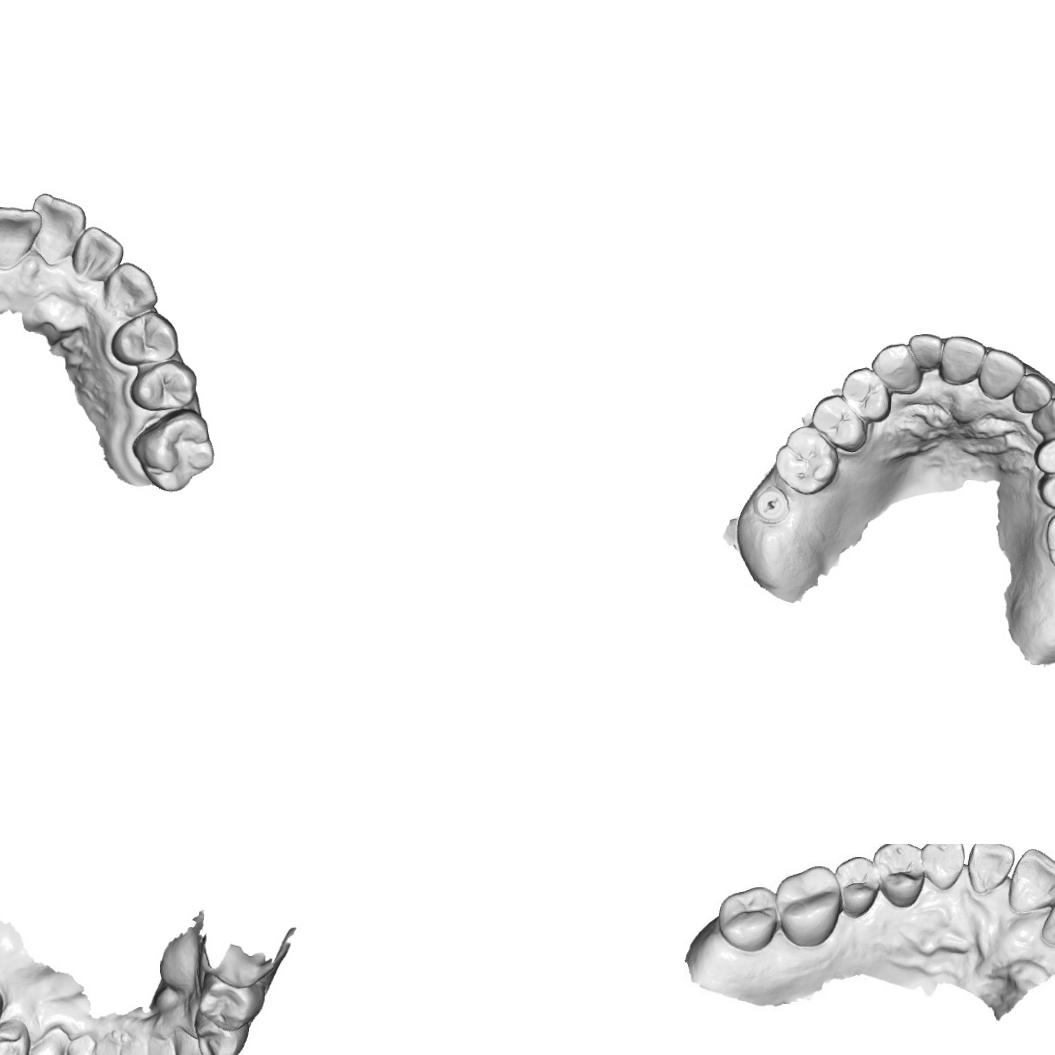canine: (100, 260, 160, 318), (870, 342, 923, 394), (919, 844, 965, 892), (15, 1029, 65, 1055), (174, 1029, 220, 1055), (1030, 396, 1055, 435)
implant_minus: (752, 484, 791, 524)
incisor: (30, 192, 86, 268), (71, 224, 130, 282), (0, 203, 43, 270), (965, 844, 1015, 900), (1011, 848, 1055, 910), (977, 348, 1027, 400), (939, 335, 987, 386), (1012, 373, 1053, 414), (908, 332, 944, 373), (82, 1032, 126, 1055), (144, 1032, 186, 1055), (1040, 884, 1055, 947), (49, 1035, 88, 1055), (118, 1032, 150, 1055)
molar: (130, 408, 216, 494), (772, 869, 843, 948), (774, 424, 840, 495), (718, 888, 781, 952)
premolar: (196, 972, 266, 1032), (110, 309, 182, 367), (126, 359, 200, 415), (809, 393, 868, 453), (838, 365, 892, 423), (193, 1008, 250, 1055), (836, 858, 882, 916), (876, 844, 922, 902), (0, 1017, 32, 1055), (1032, 432, 1055, 475), (1037, 465, 1055, 509)
